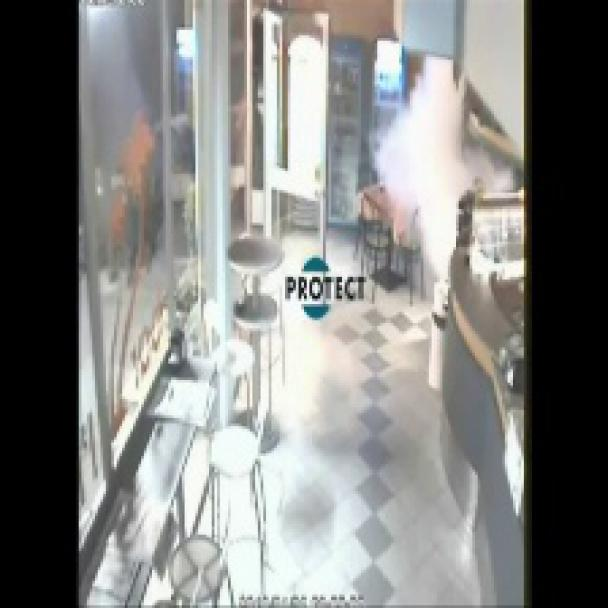smoke: (335, 38, 538, 303)
